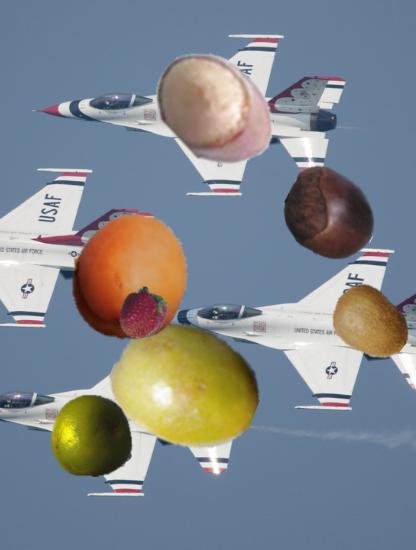Apricot: (65, 212, 194, 341)
Chestnut: (283, 167, 379, 263)
Hazelnut: (149, 42, 282, 175)
Kiwi: (330, 283, 411, 364)
Maracuja: (111, 311, 261, 461)
Pomelo: (50, 393, 135, 478)
Strawberry: (118, 287, 170, 339)
